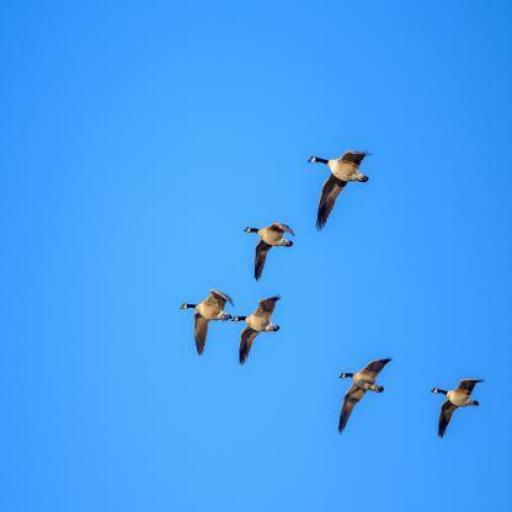bird: (306, 150, 373, 232), (338, 358, 393, 433), (179, 290, 236, 357), (230, 295, 281, 365), (243, 222, 295, 281), (430, 379, 482, 438)
